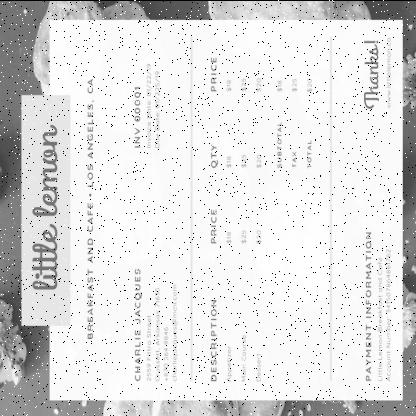Paragraph: (132, 266, 180, 384), (29, 122, 60, 292), (362, 228, 392, 384), (272, 71, 316, 173), (84, 76, 96, 341), (132, 60, 162, 150), (361, 34, 392, 112)
Table: (206, 52, 266, 386)
